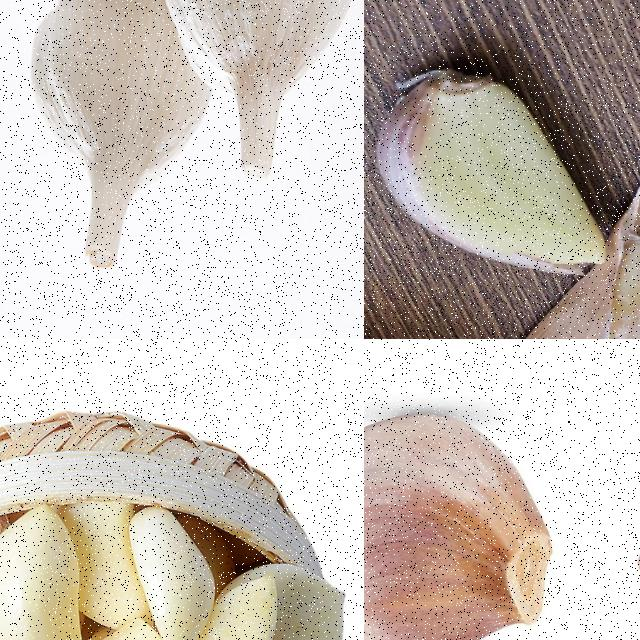garlic: (28, 0, 216, 273), (385, 60, 614, 272), (0, 505, 349, 639), (364, 407, 561, 639), (156, 0, 362, 183), (512, 210, 639, 338)
